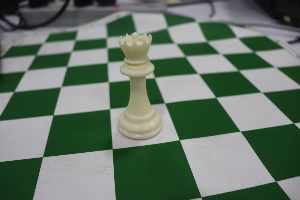white_queen: (106, 20, 167, 148)
